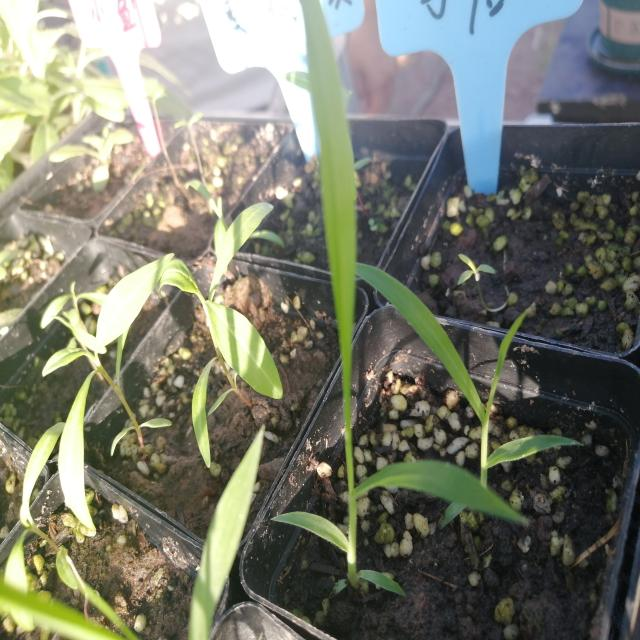crabgrass: (292, 36, 524, 573), (380, 249, 562, 506)
